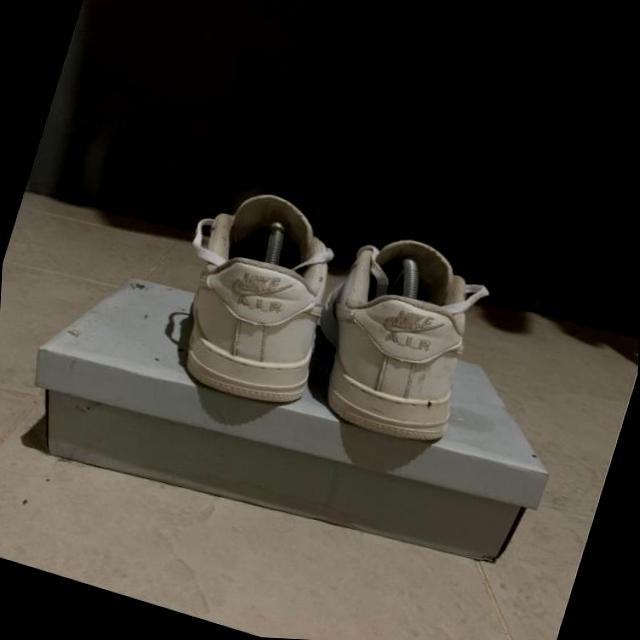nike_fake_airforce: (294, 216, 502, 455), (165, 177, 362, 418)
